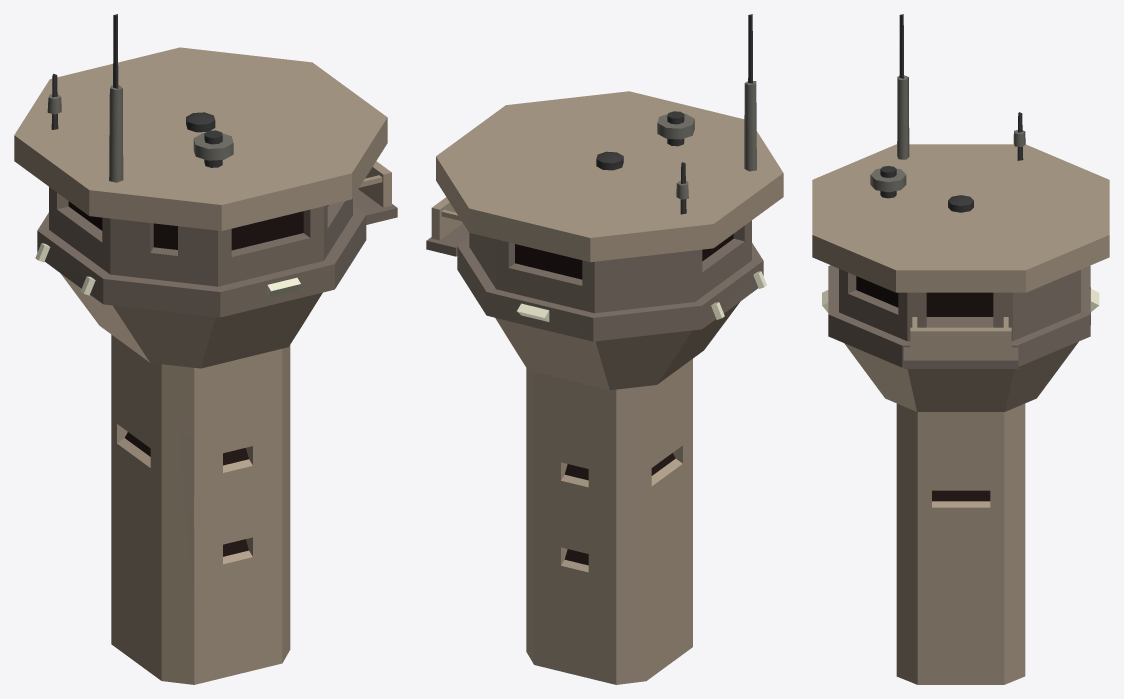
The model's file is tower1.fbx.
The picture shows the model from 3 angles, left to right: view 1: azimuth 30°, elevation 25°; view 2: azimuth 150°, elevation 25°; view 3: azimuth 270°, elevation 25°; orthographic projection. The views are drawn at different scales.
Visible parts, largest first — view 1: tower1; view 2: tower1; view 3: tower1.
Boxes of the visible parts, <box> form: tower1: <box>14,14,397,684</box>; tower1: <box>426,14,783,684</box>; tower1: <box>812,14,1109,684</box>.
Bounding box in the file's own units: 396 × 829 × 377.
